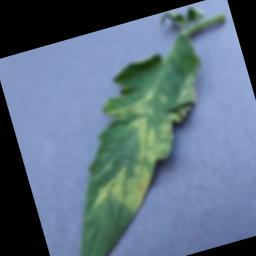Leaf_Mold: (61, 66, 234, 227)
